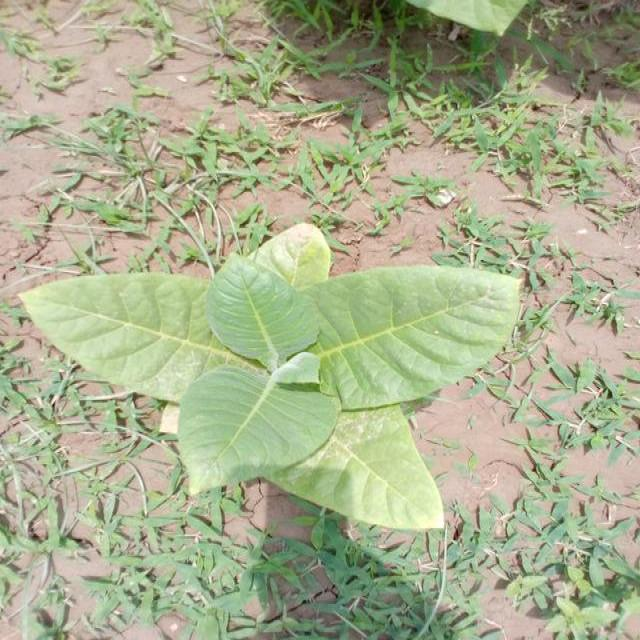crop: (30, 223, 524, 538), (403, 0, 524, 42)
